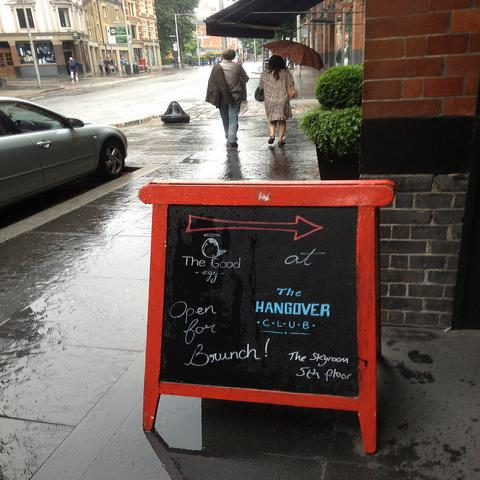car: (0, 96, 128, 208)
